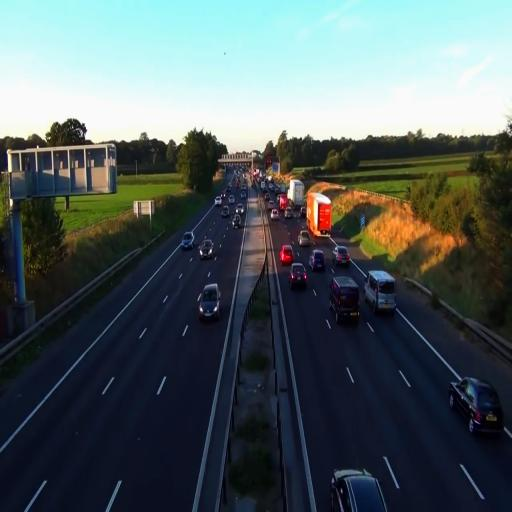vehicle: (448, 376, 504, 435), (448, 378, 503, 435), (330, 468, 388, 512), (330, 470, 387, 511), (328, 274, 360, 324), (306, 190, 333, 241), (364, 271, 395, 315), (329, 276, 358, 323), (366, 270, 396, 312), (306, 193, 330, 236), (198, 282, 220, 322), (199, 284, 219, 320), (289, 263, 307, 290), (287, 180, 303, 208), (288, 264, 305, 288), (198, 238, 216, 260), (333, 244, 350, 267), (310, 250, 326, 273), (280, 245, 294, 270), (332, 246, 349, 266), (309, 250, 324, 271), (279, 245, 293, 265), (181, 231, 195, 250), (199, 239, 212, 259), (181, 232, 194, 249), (298, 230, 311, 247), (278, 195, 287, 211), (270, 207, 279, 220), (231, 215, 240, 228), (270, 209, 278, 220), (235, 203, 243, 214), (284, 207, 291, 219), (300, 205, 306, 218), (221, 206, 228, 217), (214, 196, 221, 206), (228, 195, 234, 204), (239, 190, 245, 199), (259, 181, 264, 191), (279, 185, 285, 193), (241, 182, 247, 190), (264, 193, 270, 201), (268, 183, 273, 192), (268, 200, 273, 209), (220, 191, 225, 199), (274, 188, 279, 196), (235, 180, 239, 189), (268, 177, 273, 184), (262, 186, 267, 193), (226, 185, 230, 192)
